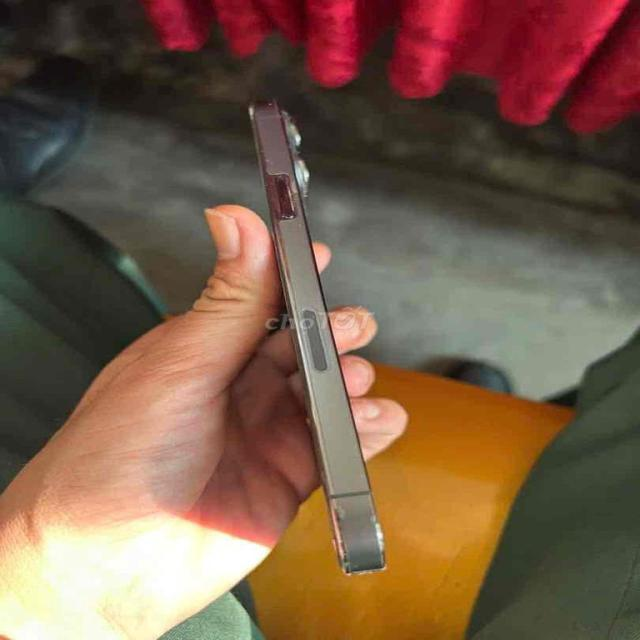gen_12_13: (234, 88, 406, 584)
